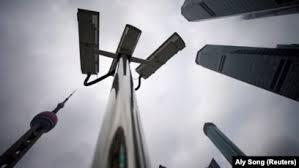tutu: (132, 29, 192, 82), (74, 0, 102, 77), (109, 22, 147, 76)
